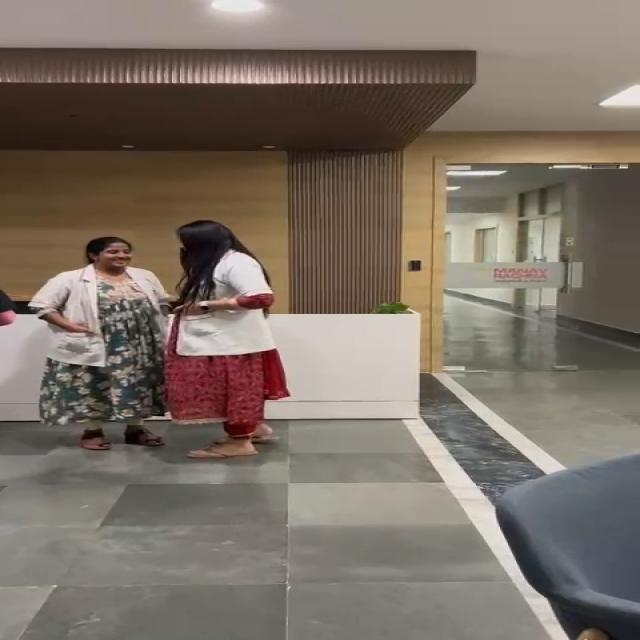floor: (0, 451, 528, 640), (451, 373, 640, 447)
furniture: (486, 445, 640, 640)
moving_object: (16, 236, 298, 454)
wall: (0, 59, 640, 223)
